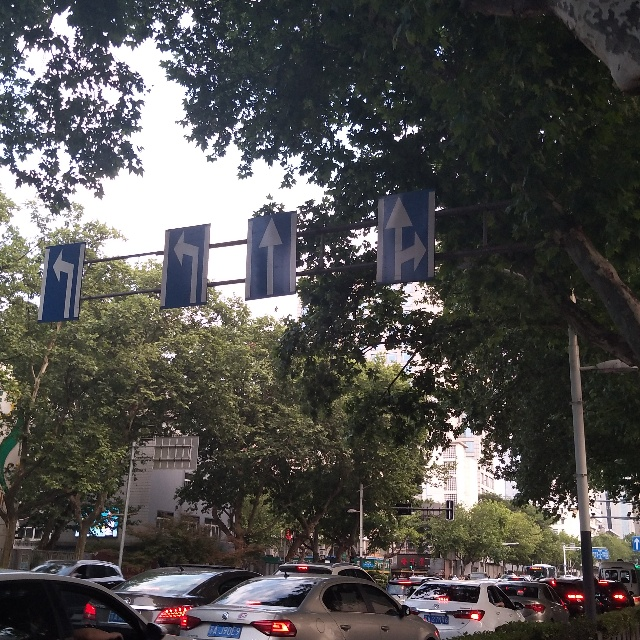left: (160, 223, 207, 312), (37, 244, 85, 319)
straight: (247, 218, 299, 294)
